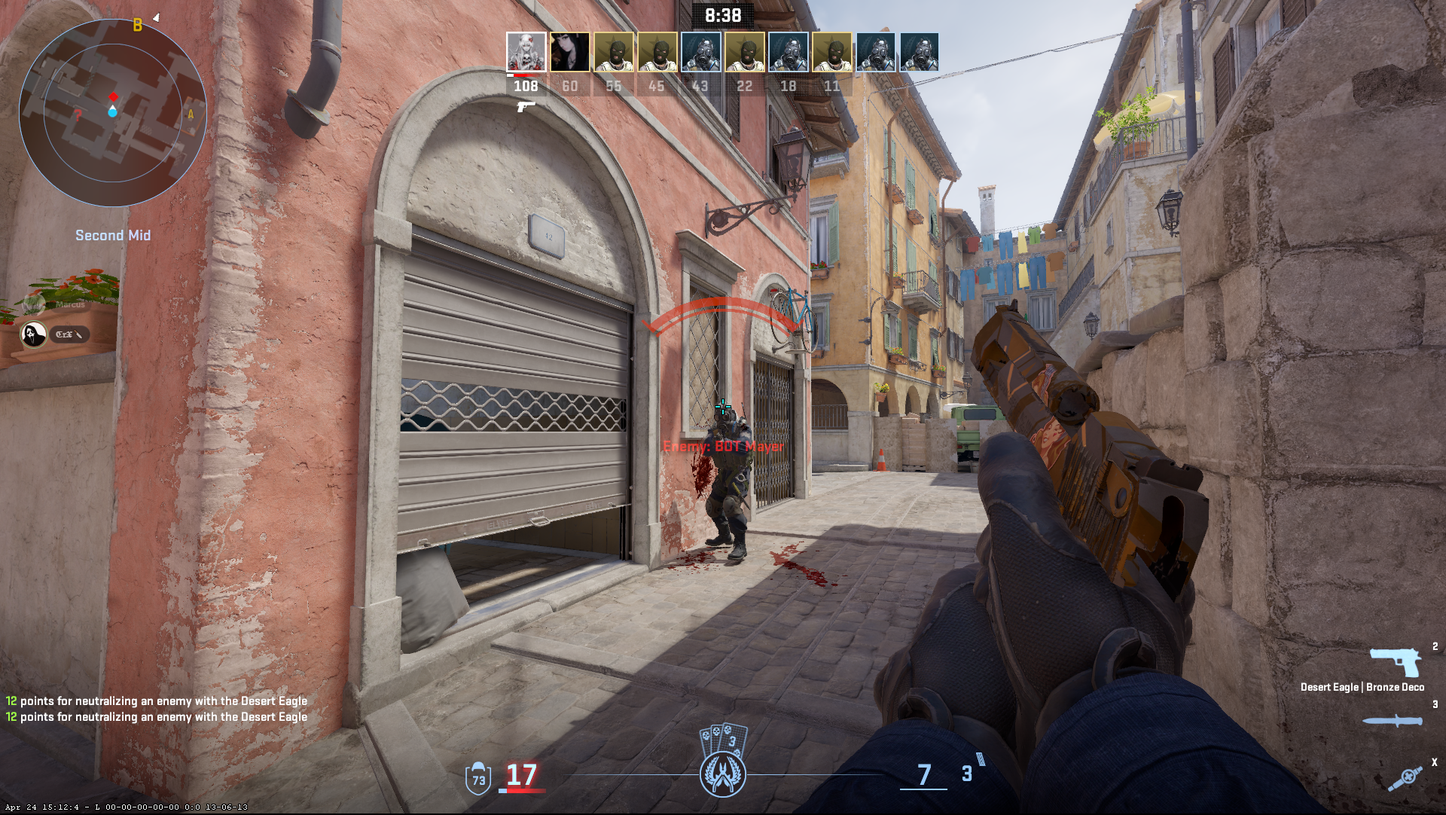CT: (704, 401, 751, 560)
